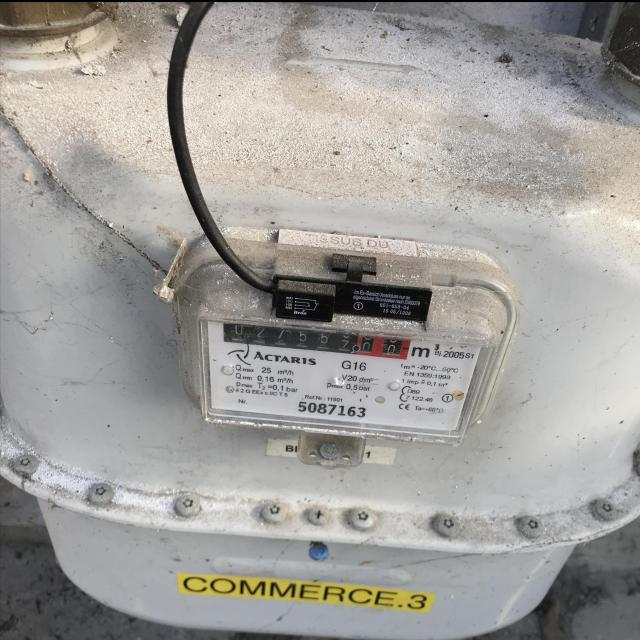gaz_meter: (200, 312, 488, 447)
indication: (224, 316, 413, 362)
